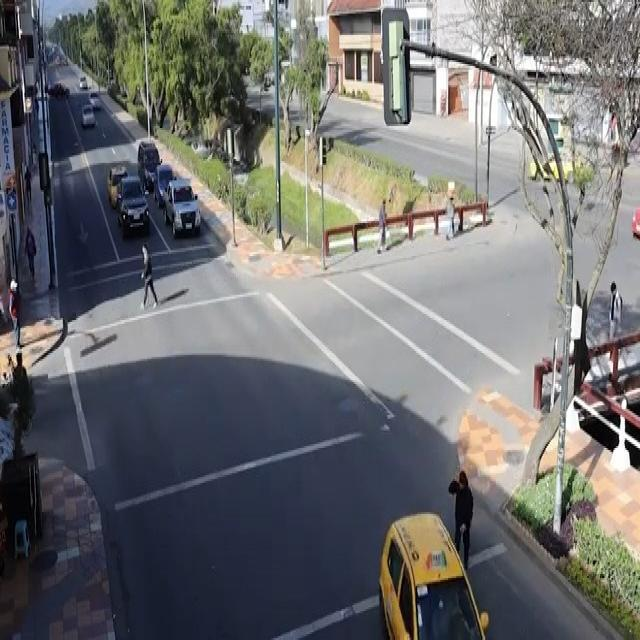CMT: (161, 179, 201, 231)
